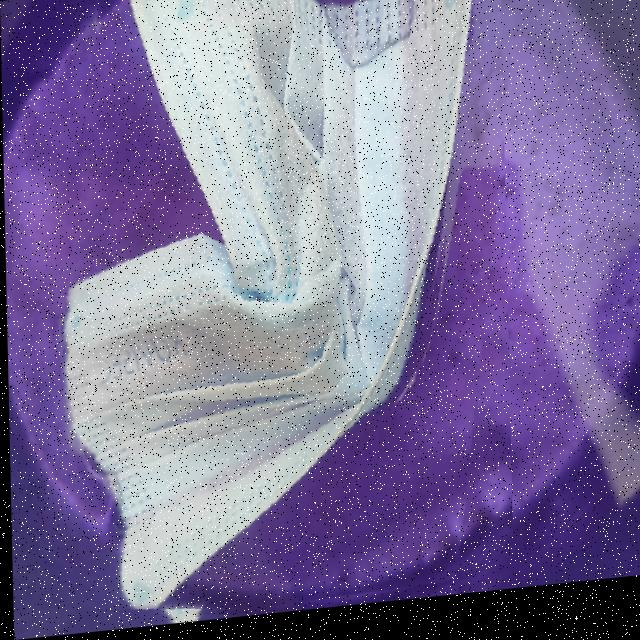litter: (39, 0, 511, 637)
